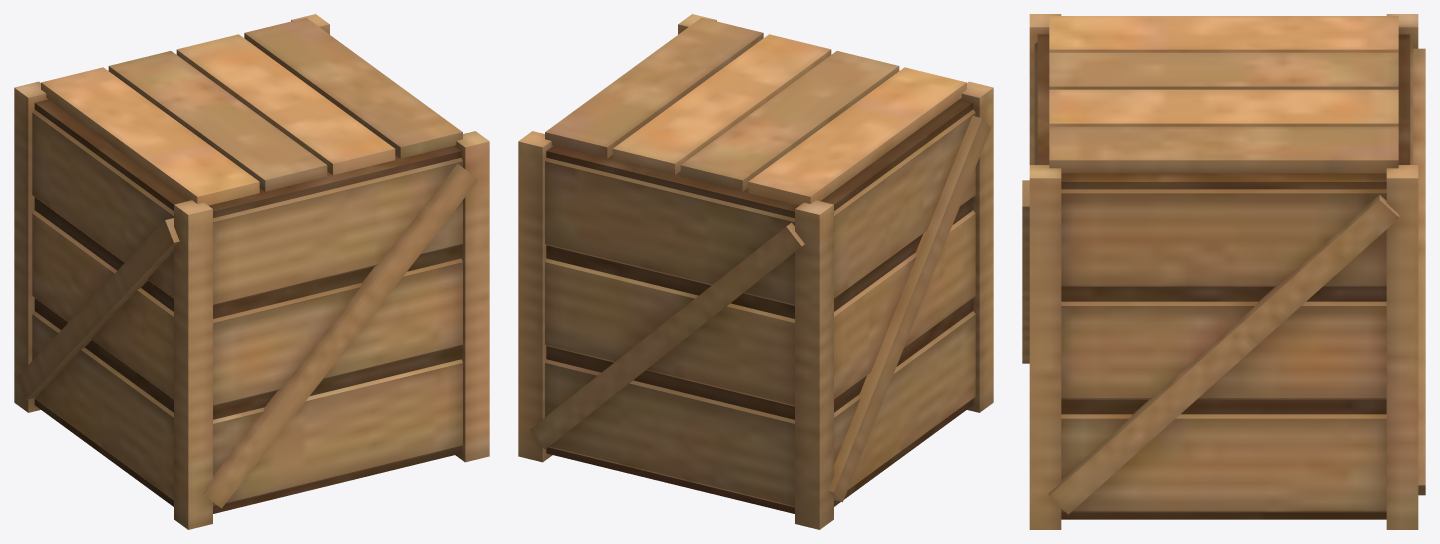
Rendered from crate_1_1.glb.
The picture shows the model from 3 angles, left to right: view 1: azimuth 30°, elevation 25°; view 2: azimuth 150°, elevation 25°; view 3: azimuth 270°, elevation 25°; orthographic projection. The views are drawn at different scales.
Visible parts, largest first — view 1: box; view 2: box; view 3: box.
Boxes of the visible parts, x1,y1,x2,y2 form: box: (14, 14, 489, 529); box: (518, 14, 993, 529); box: (1022, 14, 1425, 529).
Bounding box in the file's own units: 1.14 × 1.13 × 1.14.
1 material, 1 textured.
